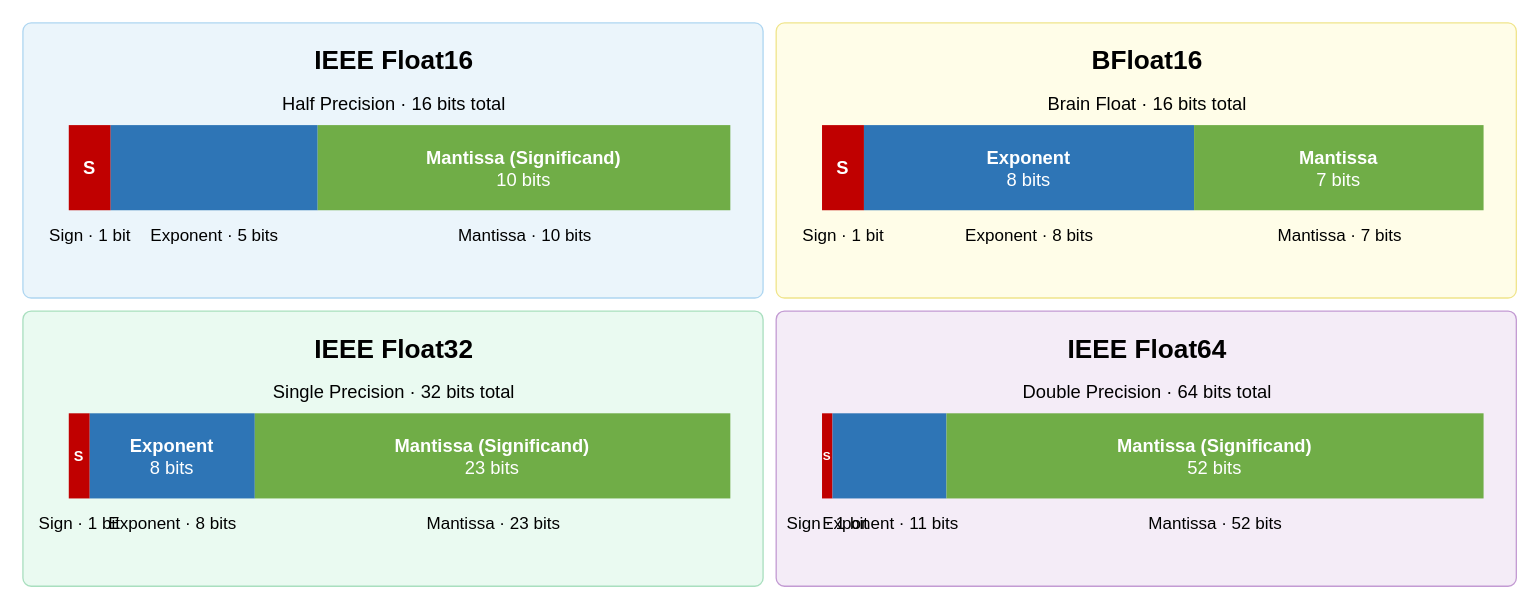
This 1539x609 diagram has some shape labels left out. The centre of each missing label's shape, as x and y in pixels:
"Exp 11 bits" belongs at (889,455).
"Exponent 5 bits" belongs at (213,167).
